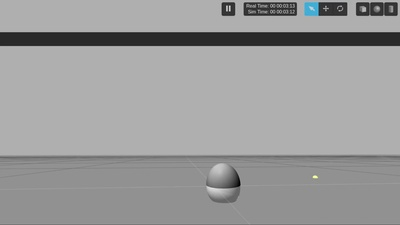mira_robot: (206, 162, 241, 203)
